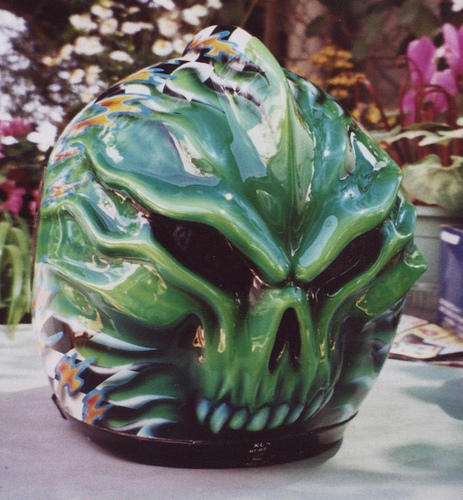helmet: (22, 26, 421, 472)
